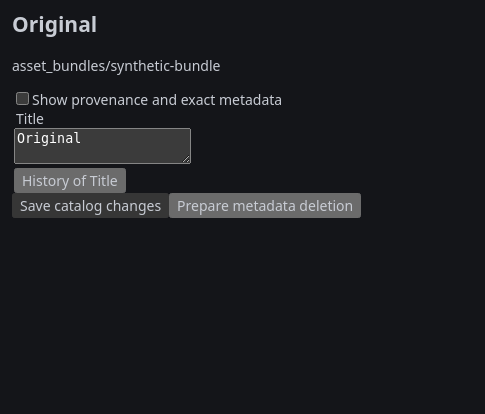
Scenario: waits for preview queue acknowledgement before reading its receipt
This screenshot has width=485, height=414.
Click the button "Prepare metadata deletion". click: (265, 205)
box: [169,193,361,218]
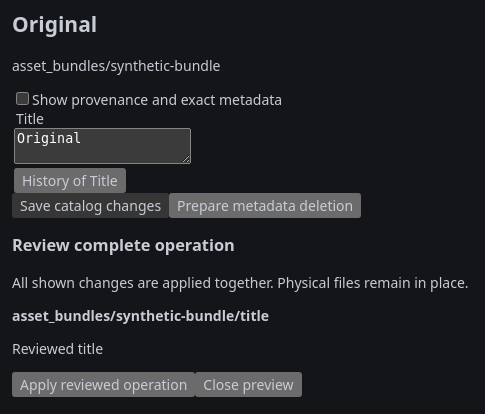
Expected: the button "Apply reviewed operation" is enabled, [12,372,195,397]
